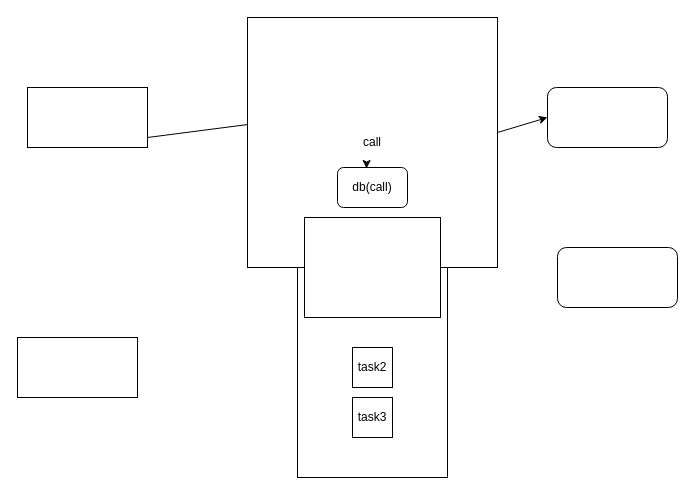
Some shapes in this 695 by 495 pixel diagram are drawn without their labels. The shapes that lost their labels are listed below. From the top down, each one's centre as x and y in pixels, then its label:
(x=607, y=117): XHS
(x=372, y=267): task1
